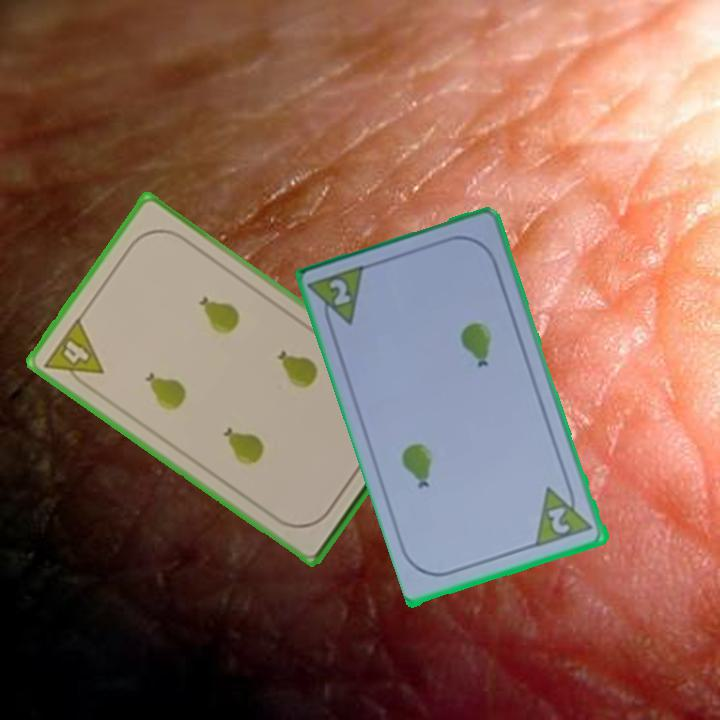2p: (326, 275, 355, 309), (545, 504, 574, 537)
4p: (40, 314, 107, 394)
